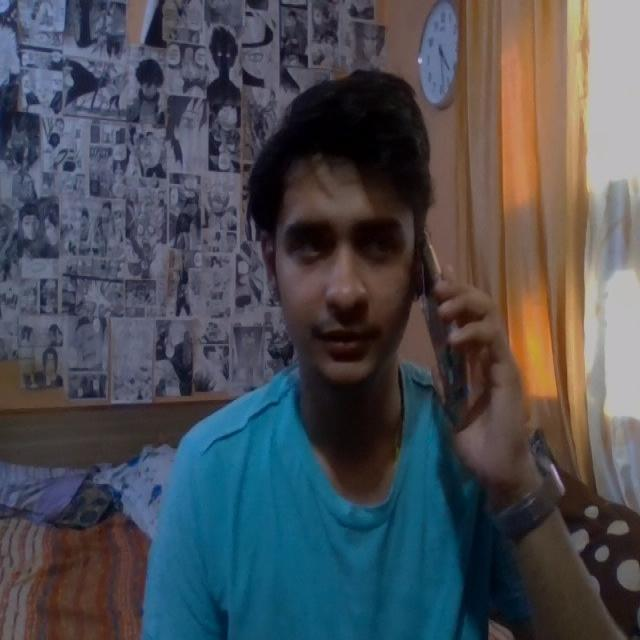oncall: (165, 58, 556, 489)
phone: (404, 225, 485, 434)
